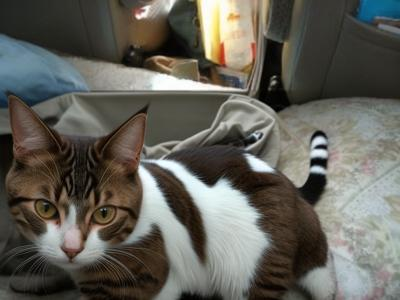cat: (1, 90, 327, 299)
